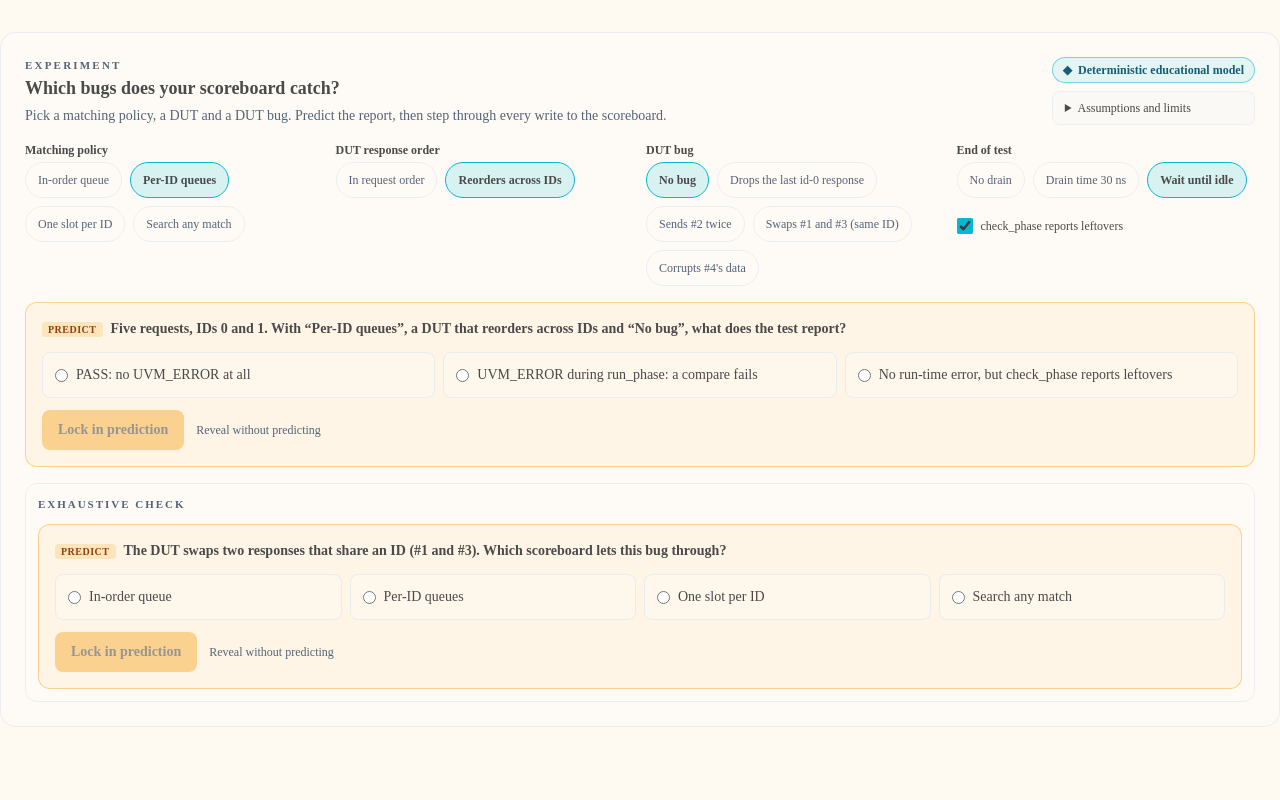
Test: ScoreboardMatchingVisualizer › hides the run until a prediction is locked in, then shows the verdict and the timeline
Click the radio button labelled "PASS: no UVM_ERROR at all": {"x": 62, "y": 375} left=55, top=368, right=68, bottom=382
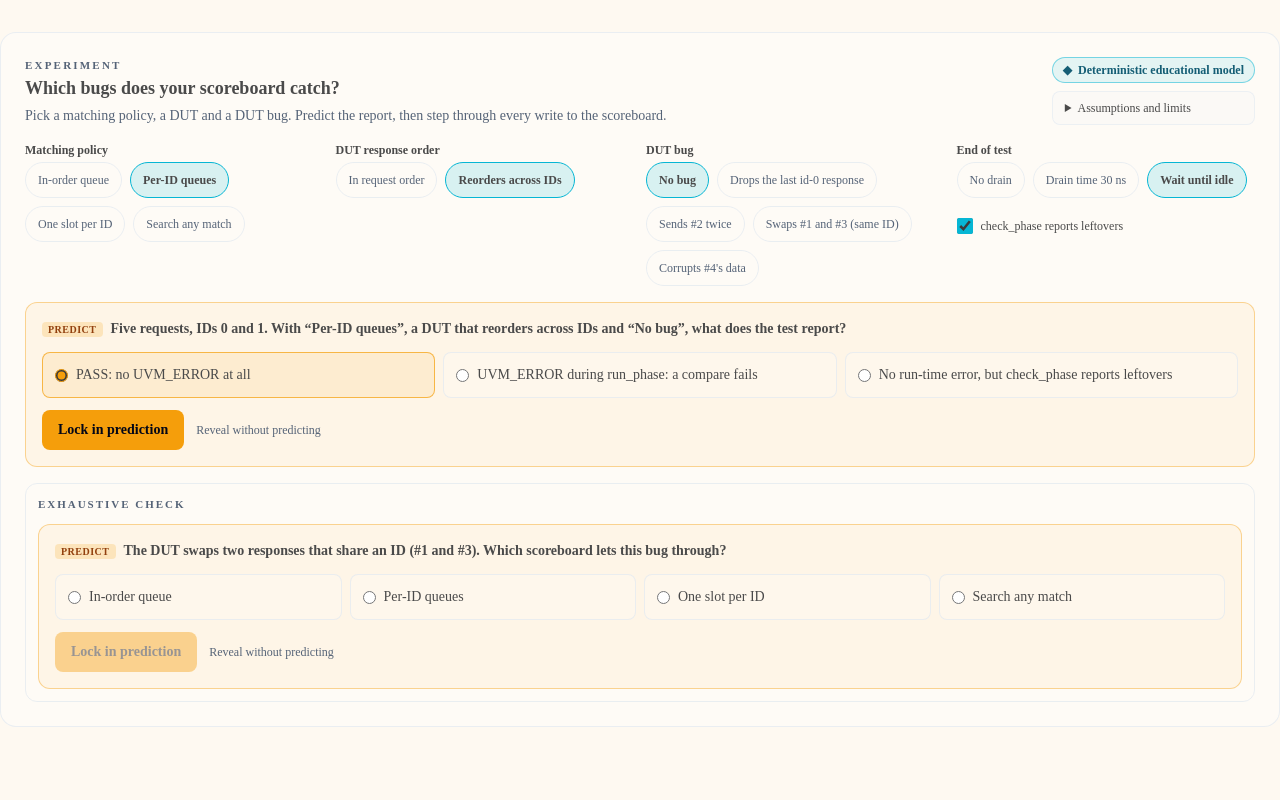
Click the button "Lock in prediction" below "PASS: no UVM_ERROR at all": {"x": 113, "y": 430} left=42, top=410, right=184, bottom=450
(page scrolled)
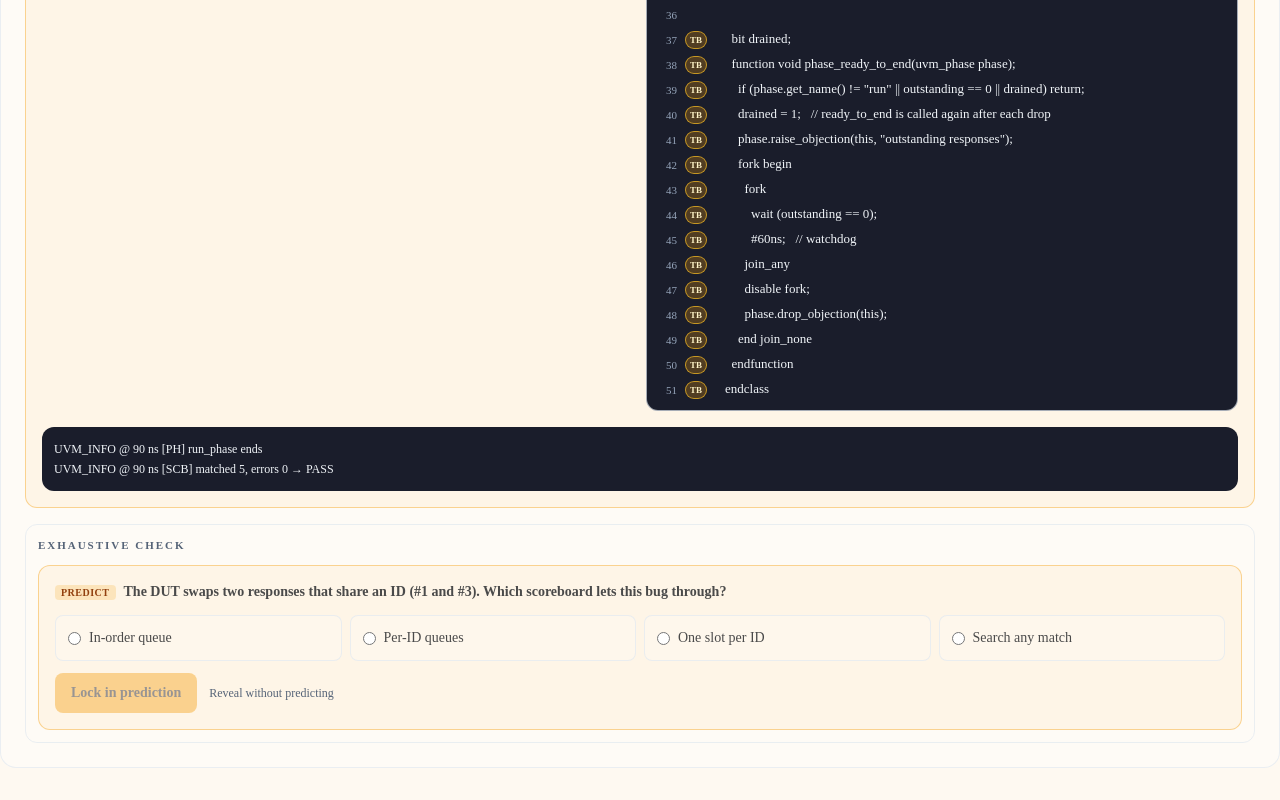
Now the text named "Simulation log" shows "matched 5, errors 0 → PASS", box left=54, top=442, right=334, bottom=476
